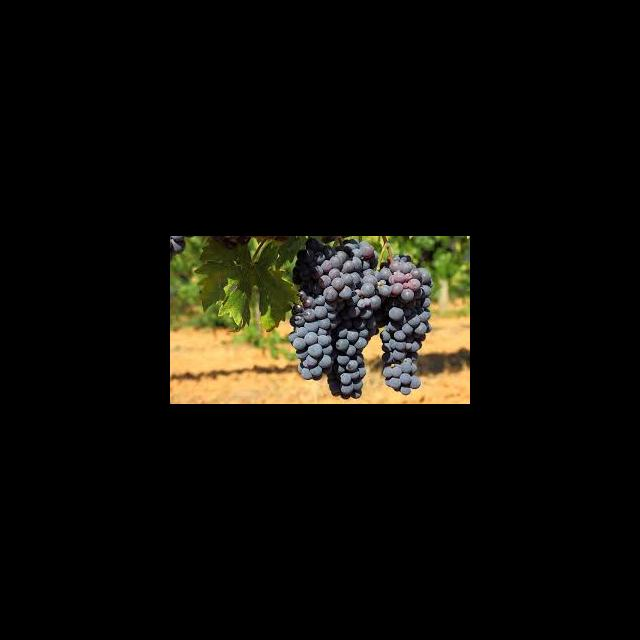grape: (288, 237, 433, 399)
